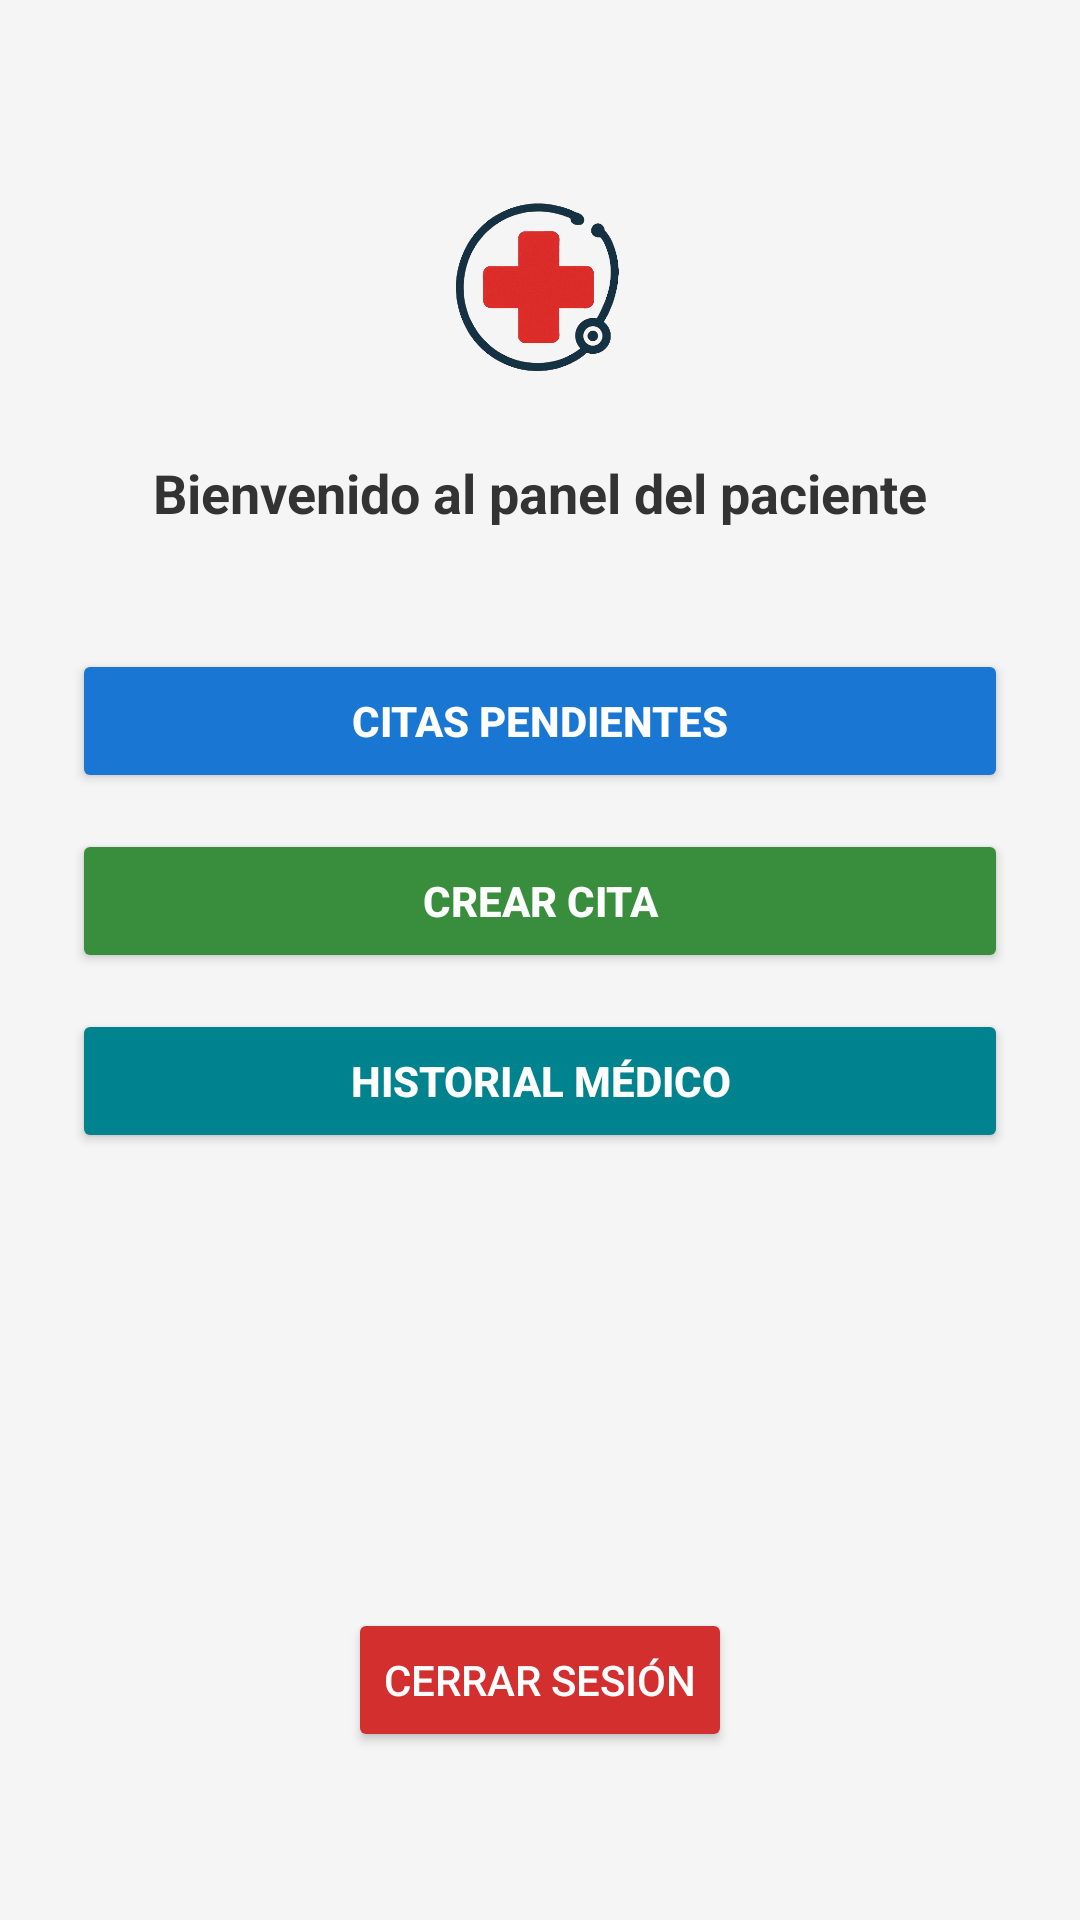

Icons on this 1080×1920 Android screen, each with the point to tap as [x,y]:
cross: [537,287]
